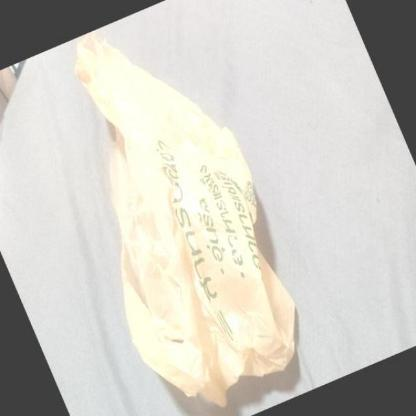Plastic Bag: (72, 37, 294, 407)
